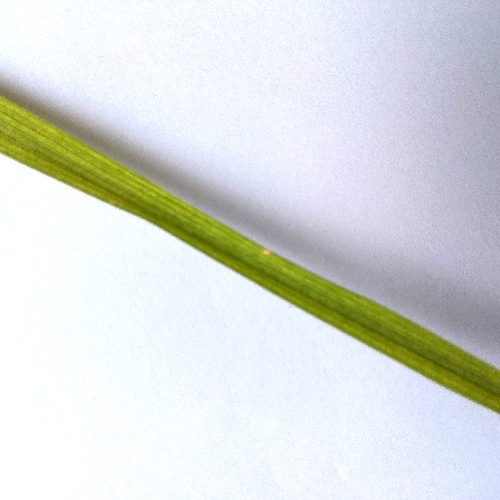Busuk Leher: (260, 243, 276, 264)
